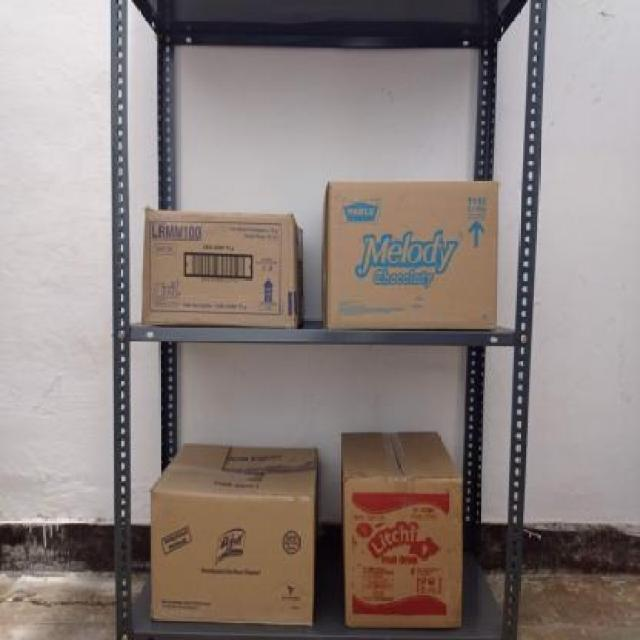box: (326, 181, 500, 330), (148, 492, 312, 620), (140, 209, 296, 328), (342, 477, 464, 628)
